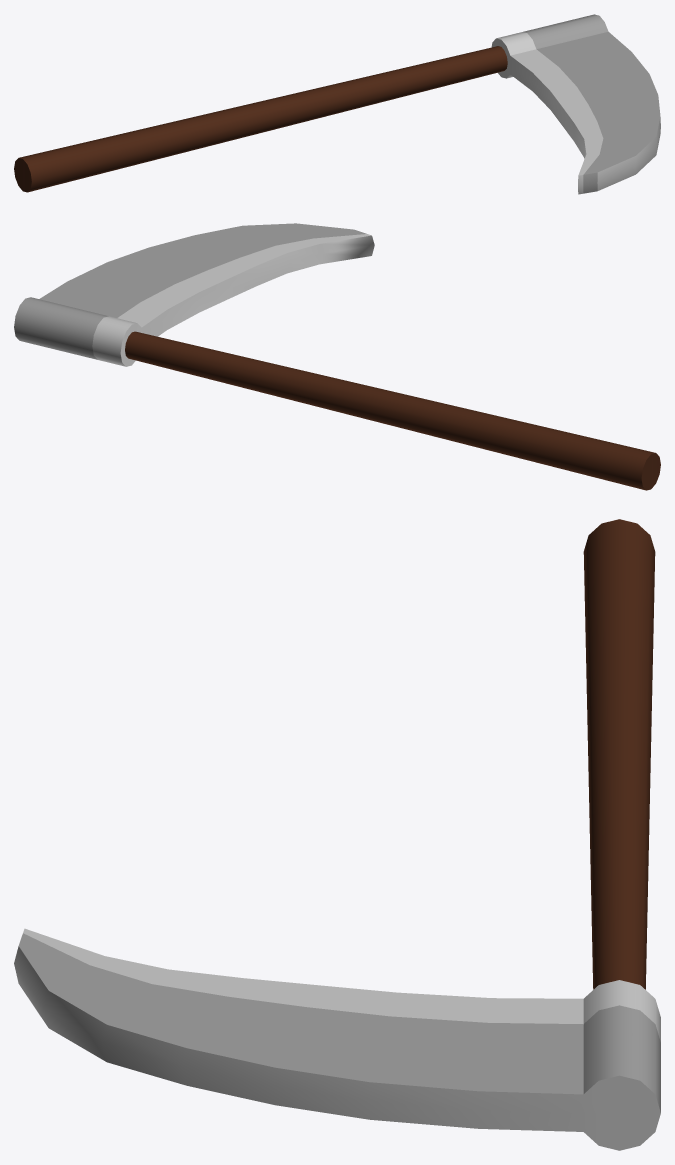
The model's file is Guadaña.fbx.
3 renders of one model, top to bottom at view 1: azimuth 30°, elevation 25°; view 2: azimuth 150°, elevation 25°; view 3: azimuth 270°, elevation 25°, orthographic. The views are drawn at different scales.
Visible parts, largest first — view 1: Cylinder; view 2: Cylinder; view 3: Cylinder.
Boxes of the visible parts, x1,y1,x2,y2 form: Cylinder: (14,14,660,194); Cylinder: (14,223,660,490); Cylinder: (14,519,660,1150).
Bounding box in the file's own units: 8.7 × 0.5429 × 4.23.
